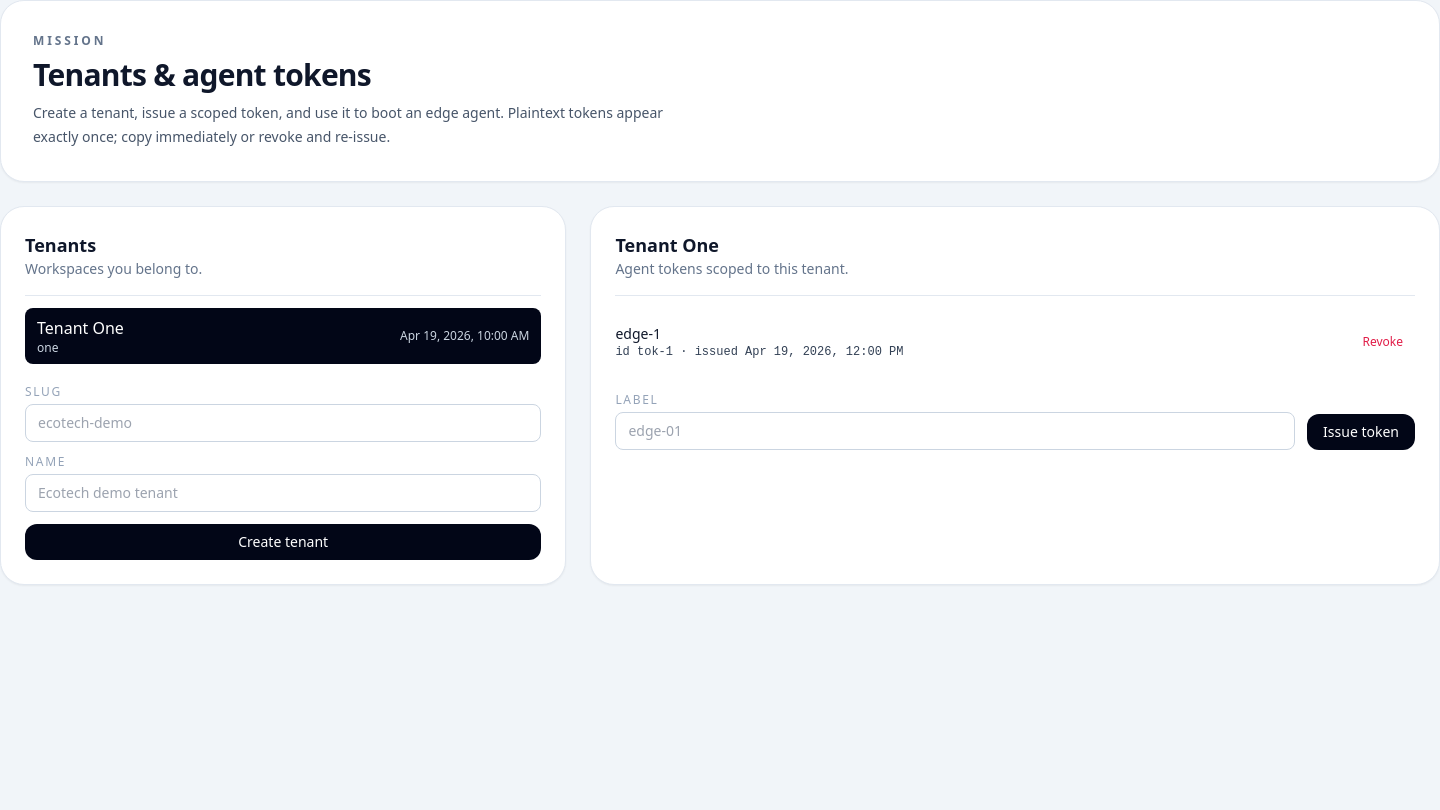
Test: TenantsPage › reports an error when revoke fails
Expected: the text "edge-1" is shown, [615,324,661,343]
Click the button "Revoke" at (1383, 342), box [1350,328,1415,356]
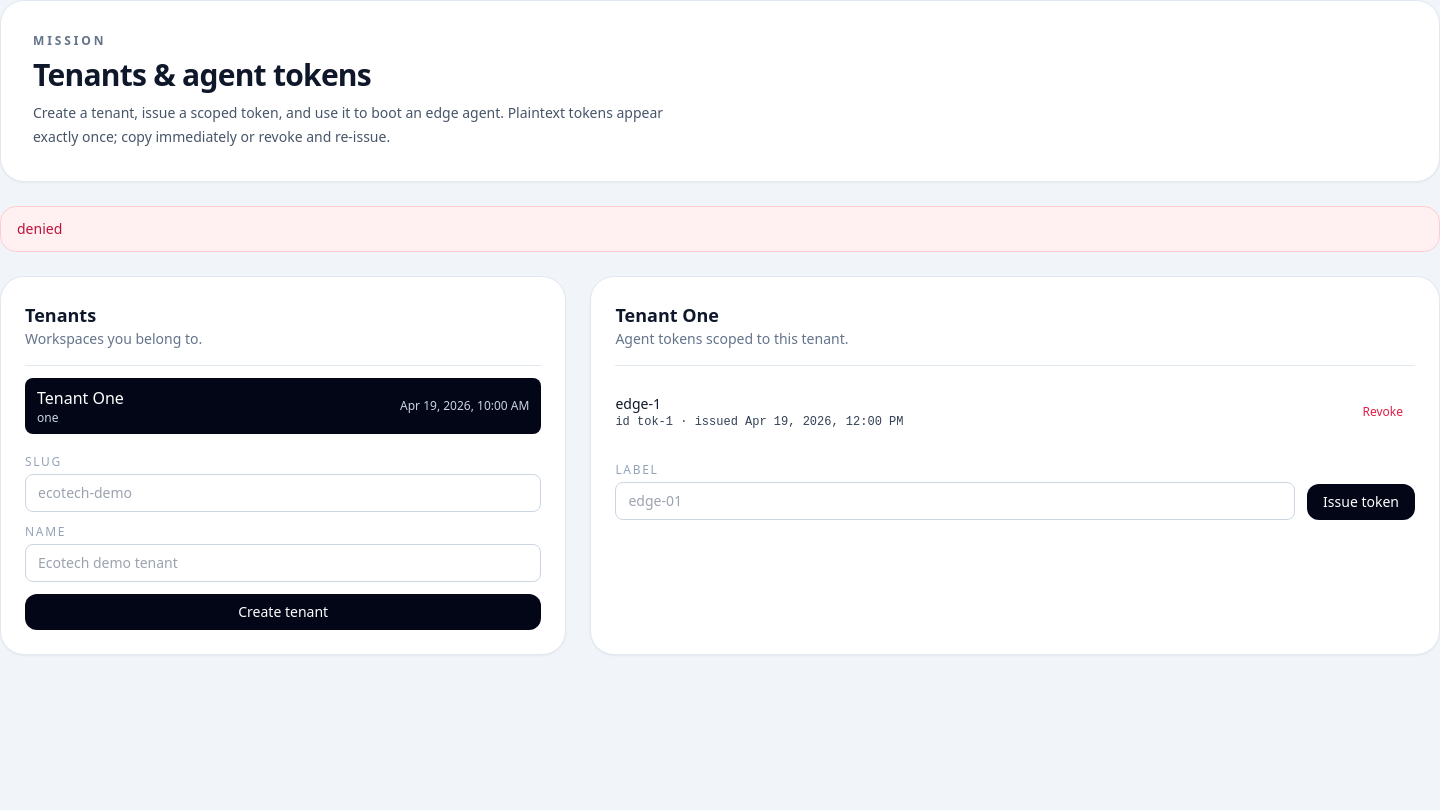
Expected: the text "denied" is shown, [0,206,1439,252]
